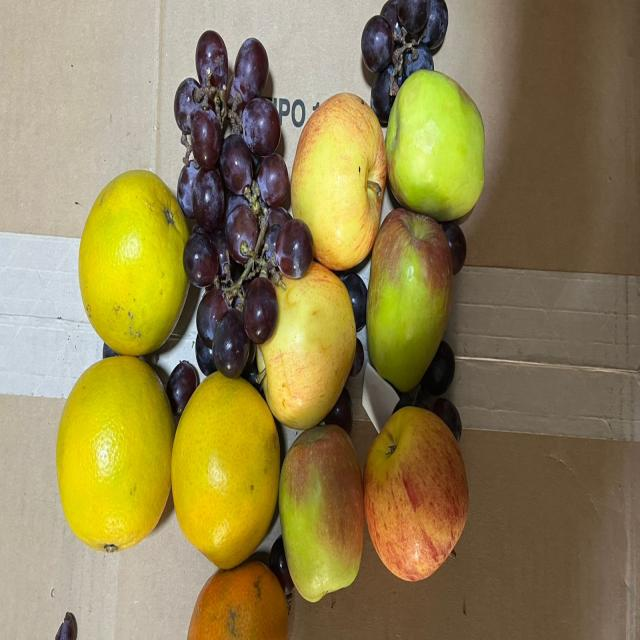hoja: (360, 357, 408, 432)
